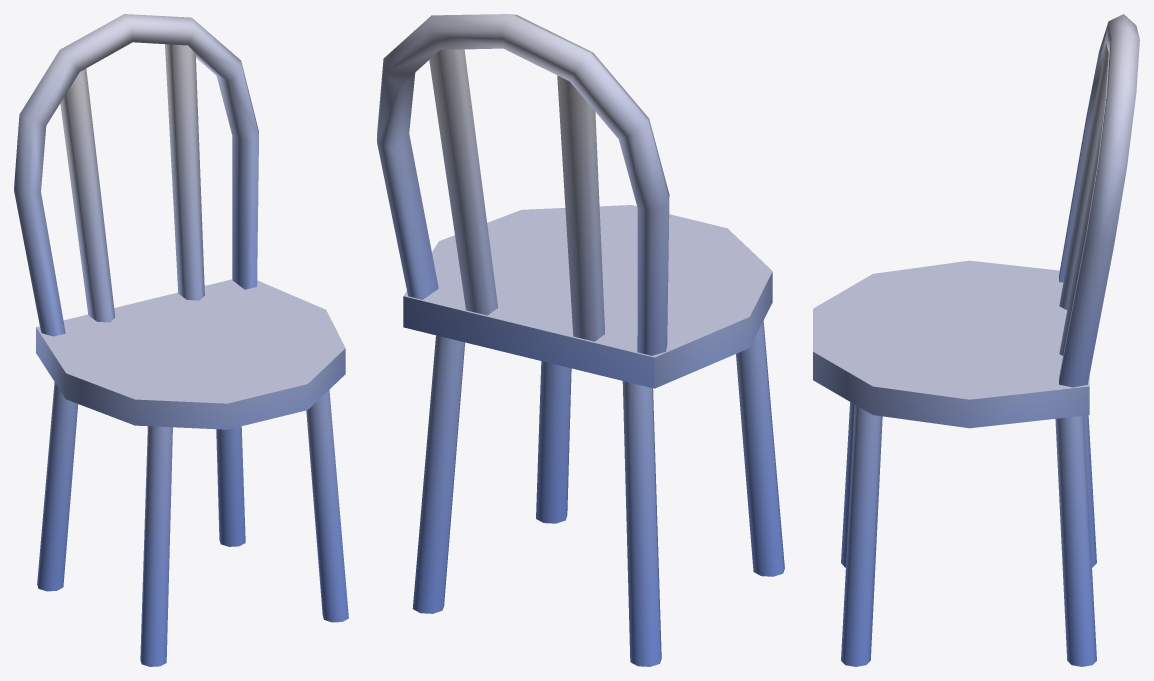
The model's file is Chair_02.fbx.
The picture shows the model from 3 angles, left to right: view 1: azimuth 30°, elevation 25°; view 2: azimuth 150°, elevation 25°; view 3: azimuth 270°, elevation 25°; orthographic projection. The views are drawn at different scales.
Visible parts, largest first — view 1: Chair_02; view 2: Chair_02; view 3: Chair_02.
Part boxes in pixels (x1,y1,x2,y2): Chair_02: [14, 14, 348, 666]; Chair_02: [377, 14, 784, 666]; Chair_02: [813, 14, 1139, 666].
Bounding box in the file's own units: 55.37 × 108 × 54.97.
Materials: 1 (1 with a texture image).
